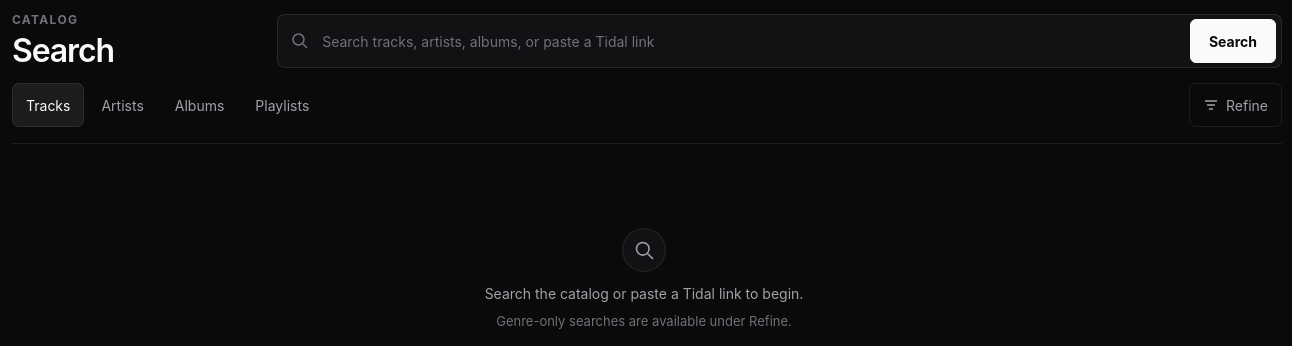
Test: SearchView › shows a non-blocking metadata status while a search result is being enriched
Type "Night Drive" into the field labelled "Search tracks, artists, albums, or paste a Tidal link" at x=750, y=41, box [318,22,1181,60]
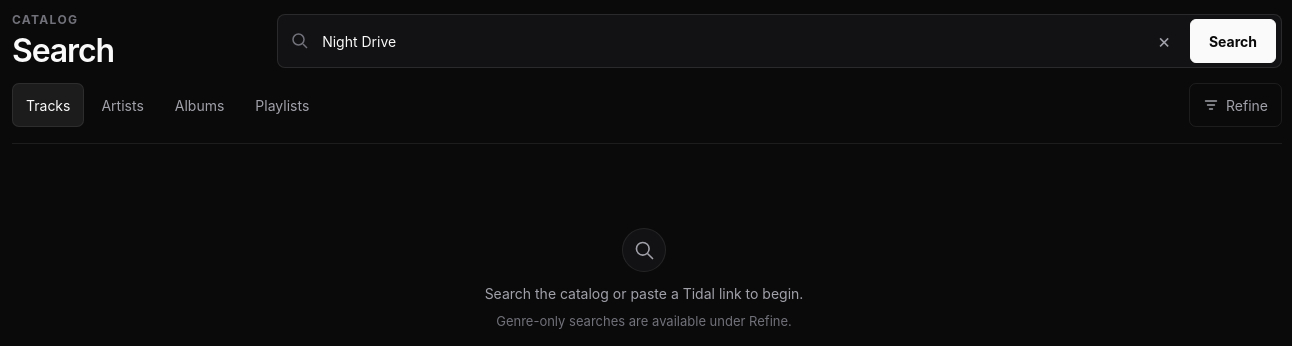
Click the button "Search" at x=1233, y=41, box [1190,19,1276,63]
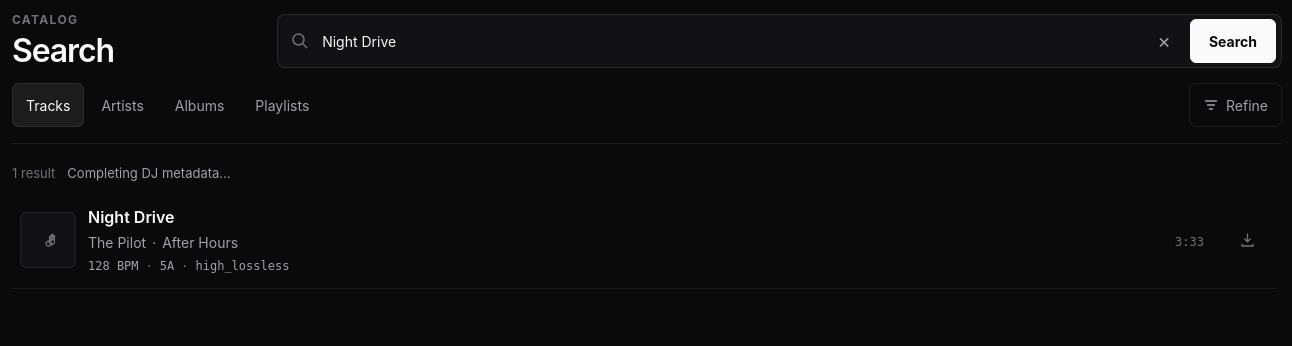
Now the text "Night Drive" is shown, box [88,207,175,227]
